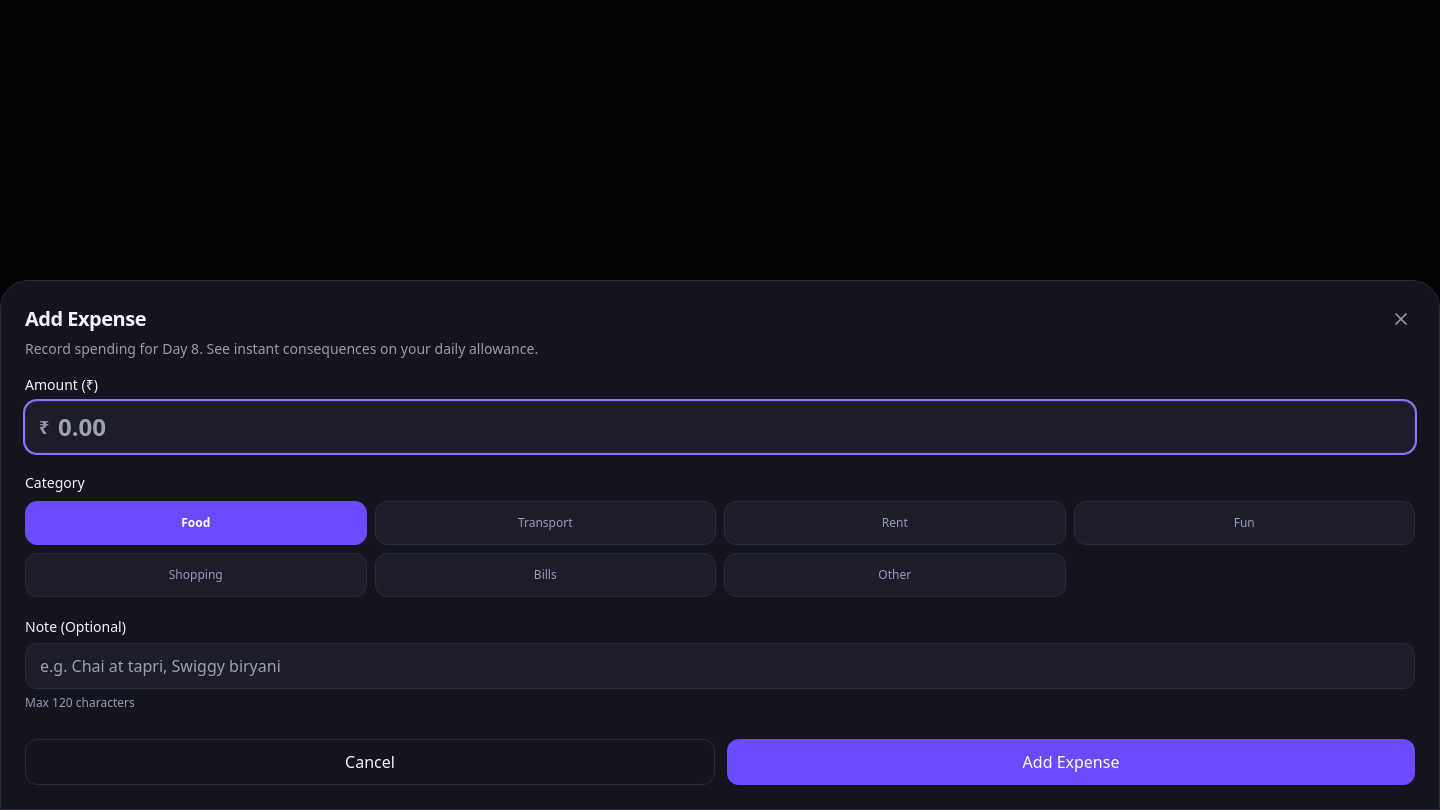
Test: AddExpenseModal Component › validates empty amount and disables submission or shows error
The width and height of the screenshot is (1440, 810).
What coordinates should you click on to do the following:
click the button "Add Expense"
I would click on:
 (1071, 762)
Its box is [727,739,1415,785].
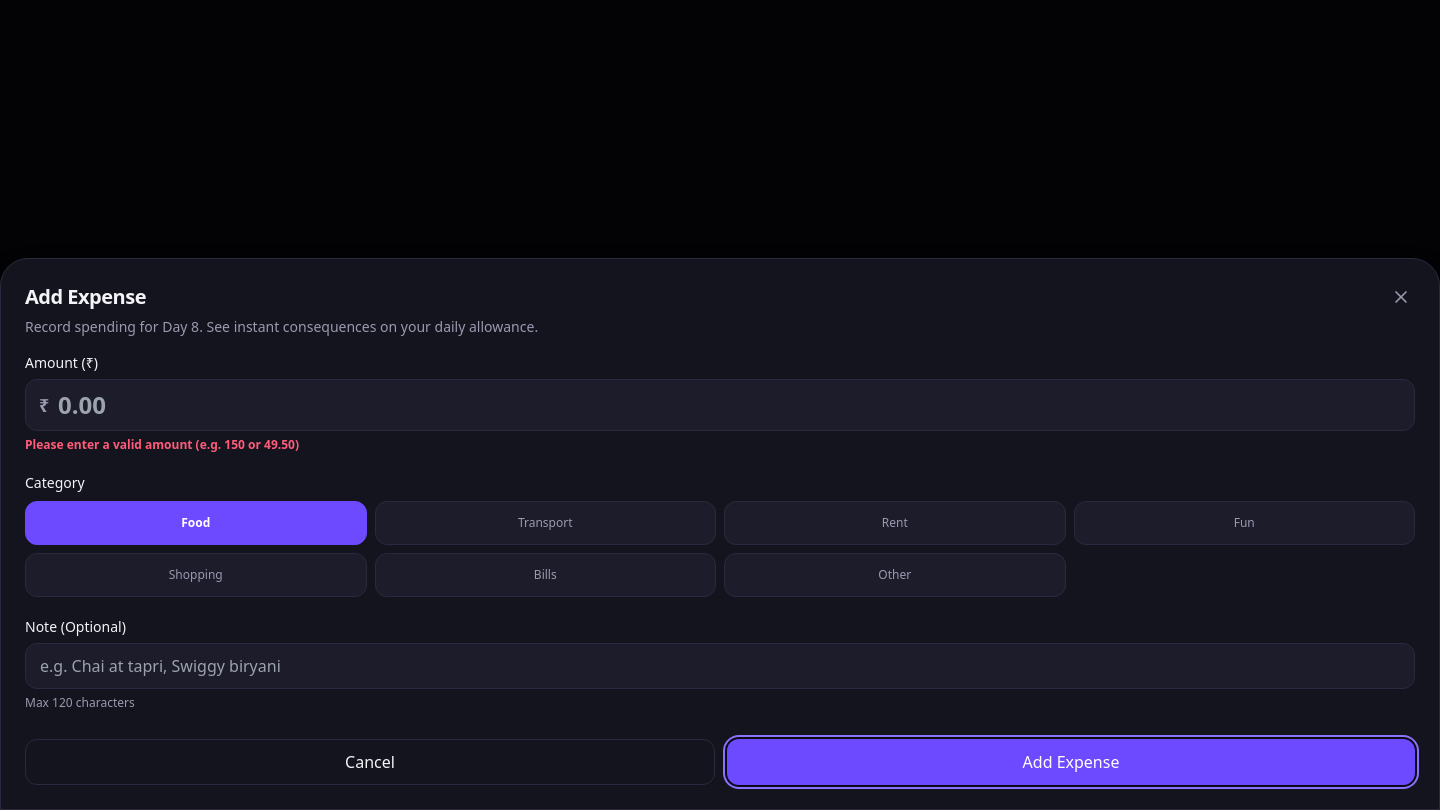
Now the text "Please enter a valid amount (e.g. 150 or 49.50)" is shown, box [25,436,299,453]
